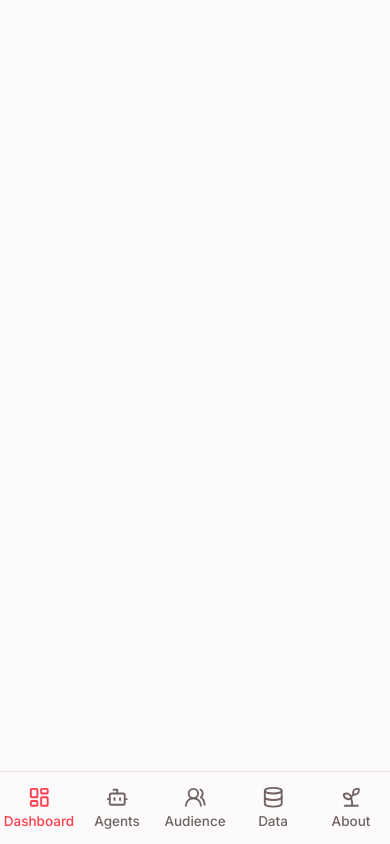
Test: MobileNav fan-up popover › anchors the leftmost fan flush-left, not centered
The width and height of the screenshot is (390, 844).
Click the button "Dashboard" at [39, 808], box top-left (0, 772), bottom-right (78, 843)
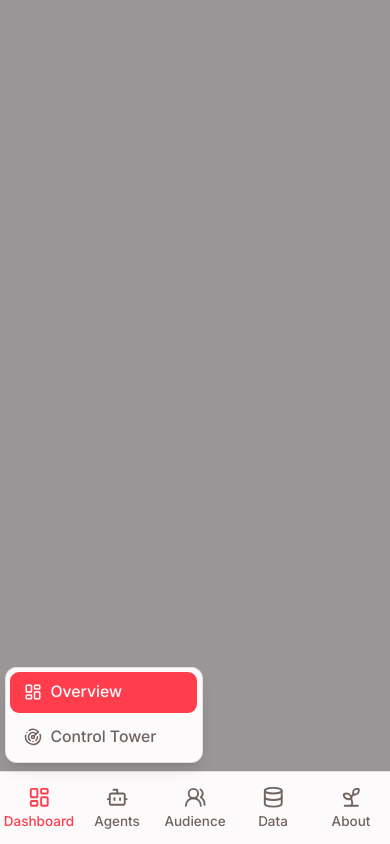
Check: the element showing "Overview Control Tower" is shown, box top-left (4, 666), bottom-right (202, 763)
